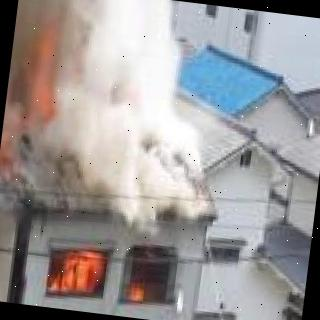fire: (0, 34, 65, 178), (54, 252, 158, 306), (0, 235, 27, 304)
